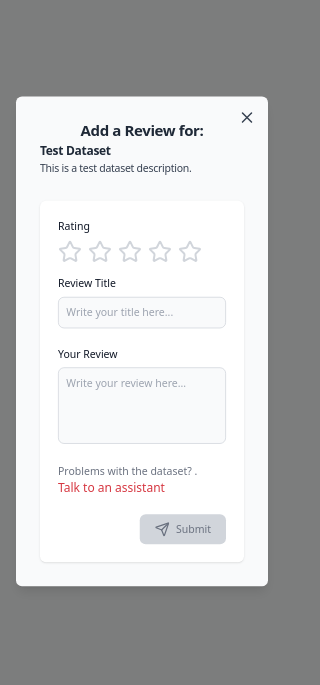
DatasetDetailModal › allows submitting a review with rating and comment
Expected: the heading "Test Dataset" is shown, [40,142,111,158]
Rate 4 stars
Click the 4th icon with test id "lucide-star": (160, 251) [148,239,172,263]
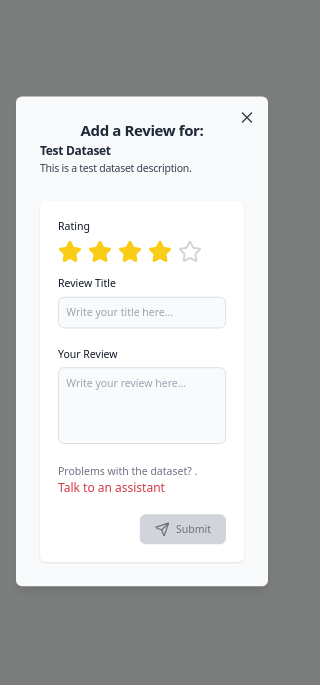
Enter review title
In the field with placeholder "Write your title here...": (142, 312) [58,296,226,328], type "Great Dataset"
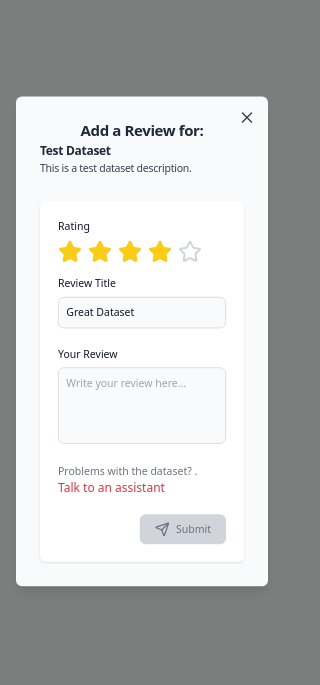
Enter comment
In the text box with placeholder "Write your review here...": (142, 405) [58,367,226,443], type "Great dataset!"
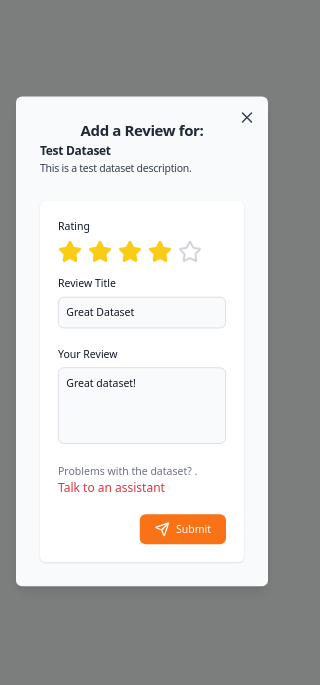
Click the button "Submit": (183, 529) [140,514,226,544]
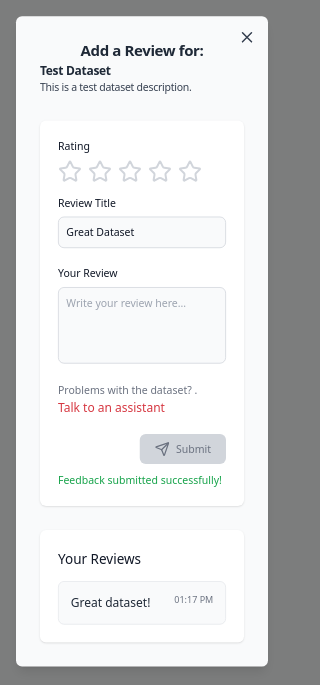
Now the text "Feedback submitted successfully!" is shown, box [58,472,226,488]
Now the text "Great dataset!" is shown, box [71,593,150,611]
